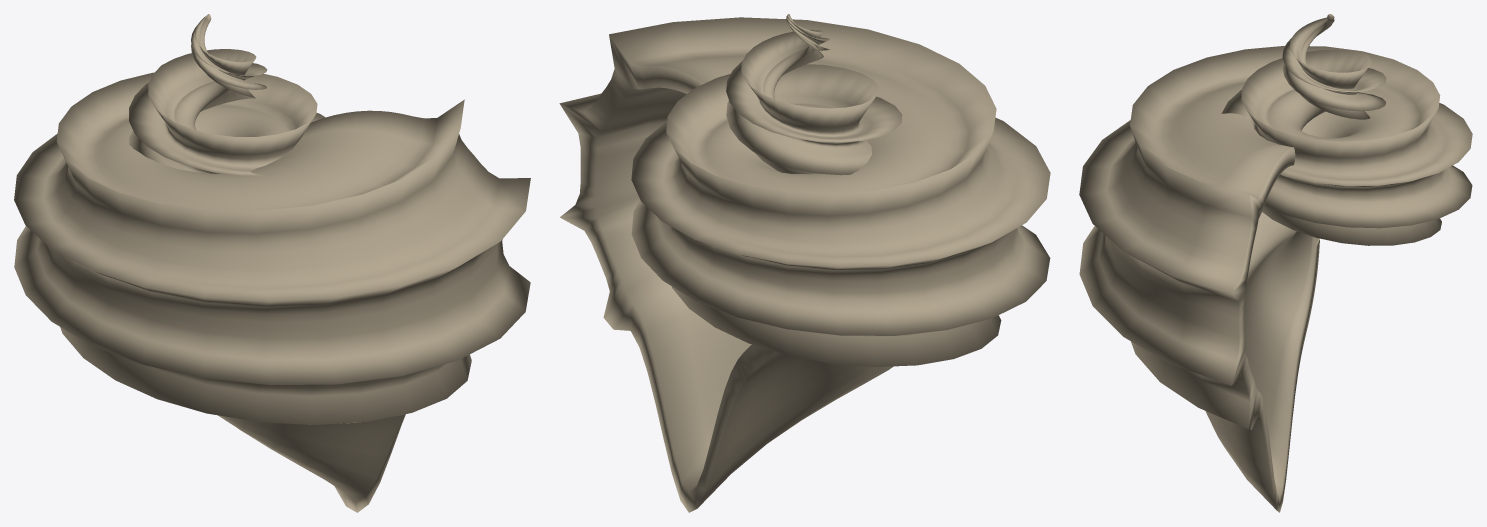
The model's file is ecphora.glb.
3 renders of one model, left to right at view 1: azimuth 30°, elevation 25°; view 2: azimuth 150°, elevation 25°; view 3: azimuth 270°, elevation 25°, orthographic. The views are drawn at different scales.
Visible parts, largest first — view 1: original-coiled-Ecphora-shell-with-integral-four-costae-and-; view 2: original-coiled-Ecphora-shell-with-integral-four-costae-and-; view 3: original-coiled-Ecphora-shell-with-integral-four-costae-and-.
Boxes of the visible parts, bbox=[...] form: original-coiled-Ecphora-shell-with-integral-four-costae-and-: bbox=[14, 14, 530, 512]; original-coiled-Ecphora-shell-with-integral-four-costae-and-: bbox=[559, 14, 1050, 512]; original-coiled-Ecphora-shell-with-integral-four-costae-and-: bbox=[1079, 14, 1472, 512].
Size of the model in its own units: 0.0703 by 0.075 by 0.0597.
